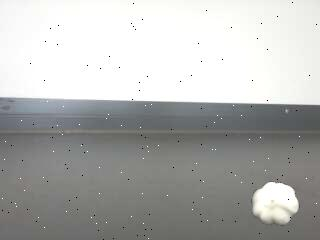Garlic: (251, 181, 300, 225)
